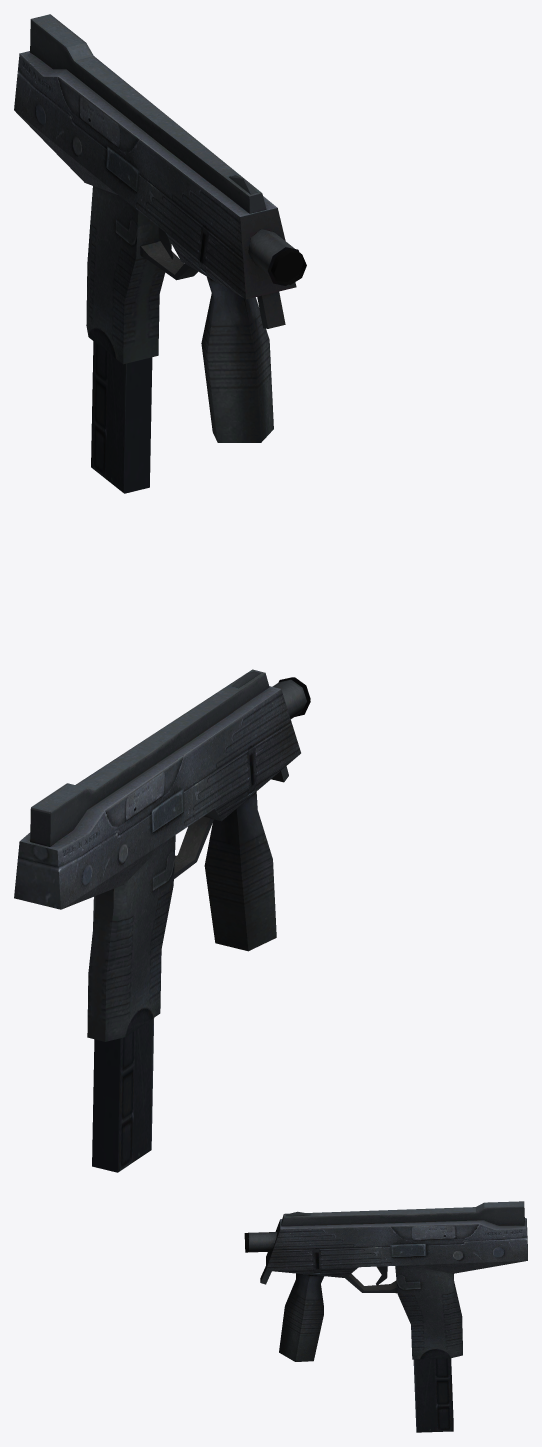
The picture shows the model from 3 angles, top to bottom: view 1: azimuth 30°, elevation 25°; view 2: azimuth 150°, elevation 25°; view 3: azimuth 270°, elevation 25°; orthographic projection. The views are drawn at different scales.
Visible parts, largest first — view 1: SMDImporter.Mesh.w_smg_tmp; view 2: SMDImporter.Mesh.w_smg_tmp; view 3: SMDImporter.Mesh.w_smg_tmp.
Part boxes in pixels (box(x1,y1,x2,y2)): SMDImporter.Mesh.w_smg_tmp: box(14, 14, 306, 493); SMDImporter.Mesh.w_smg_tmp: box(14, 669, 310, 1172); SMDImporter.Mesh.w_smg_tmp: box(244, 1201, 527, 1432).
Bounding box in the file's own units: 4.69 × 28.98 × 59.95.
